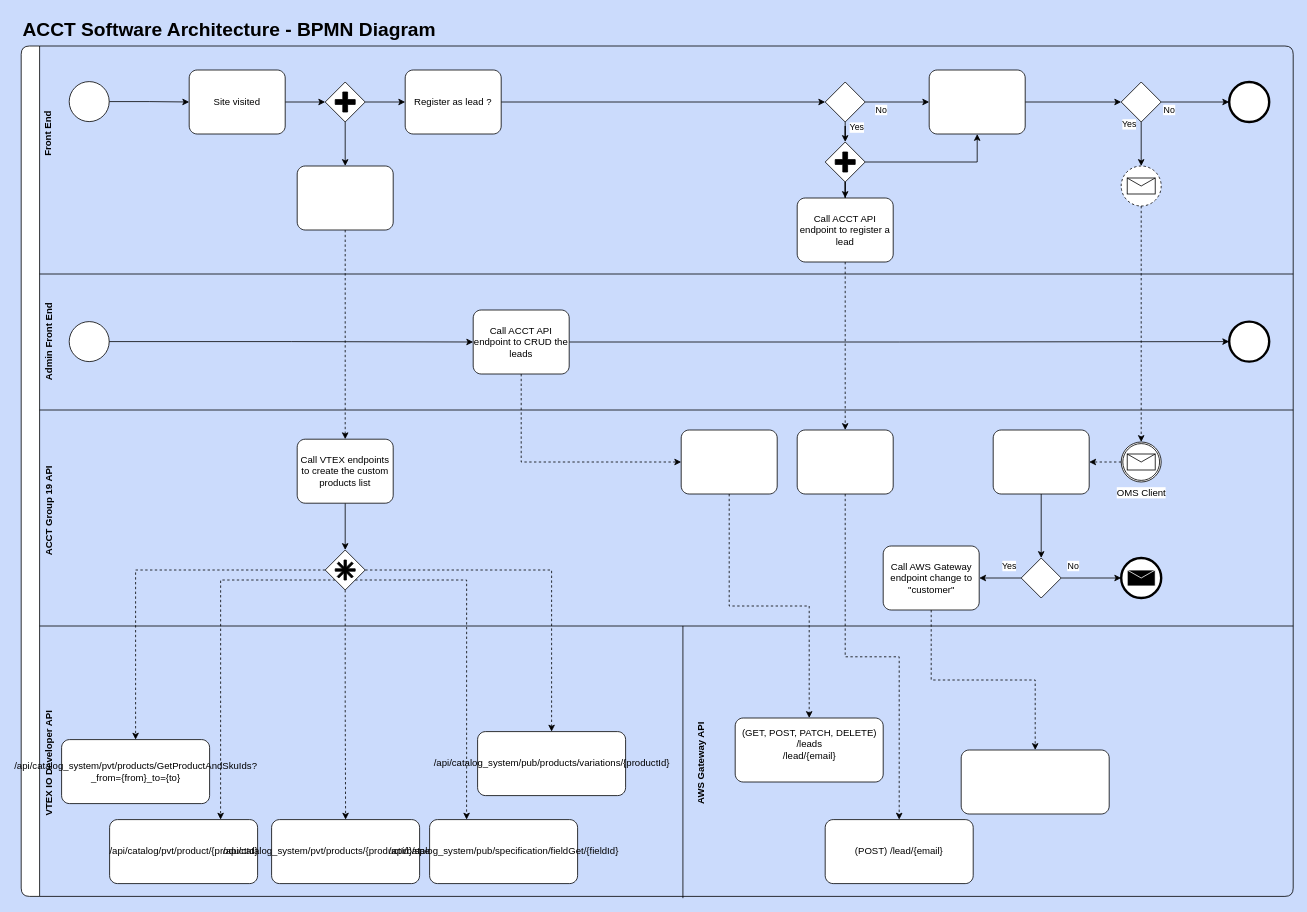
Some shapes in this 1307 by 912 pixel diagram are drawn without their labels. Each missing label, with the centre of its shape:
(PATCH) /lead/{email}: point 1034,781
Call ACCT API endpoint to create products component: point 344,197
Call AWS Gateway endpoint to CRUD the leads: point 728,461
Call AWS Gateway endpoint to register a lead: point 844,461
Order confirmed?: point 976,101
Orders Broadcast IO: point 1140,185
Verify if the email is lead and if is "prospect": point 1040,461
